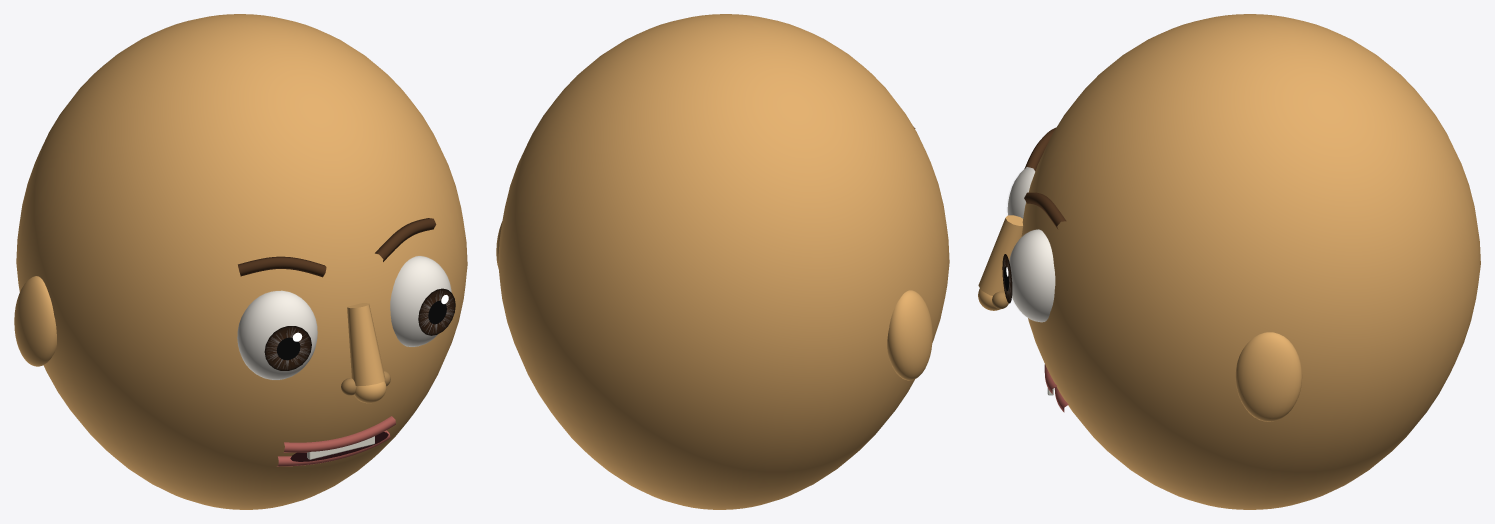
Rendered from 07-dents-serrees.glb.
The picture shows the model from 3 angles, left to right: view 1: azimuth 30°, elevation 25°; view 2: azimuth 150°, elevation 25°; view 3: azimuth 270°, elevation 25°; orthographic projection.
Size of the model in its own units: 0.3087 by 0.321 by 0.3166.
Materials: 11 (1 with a texture image).
